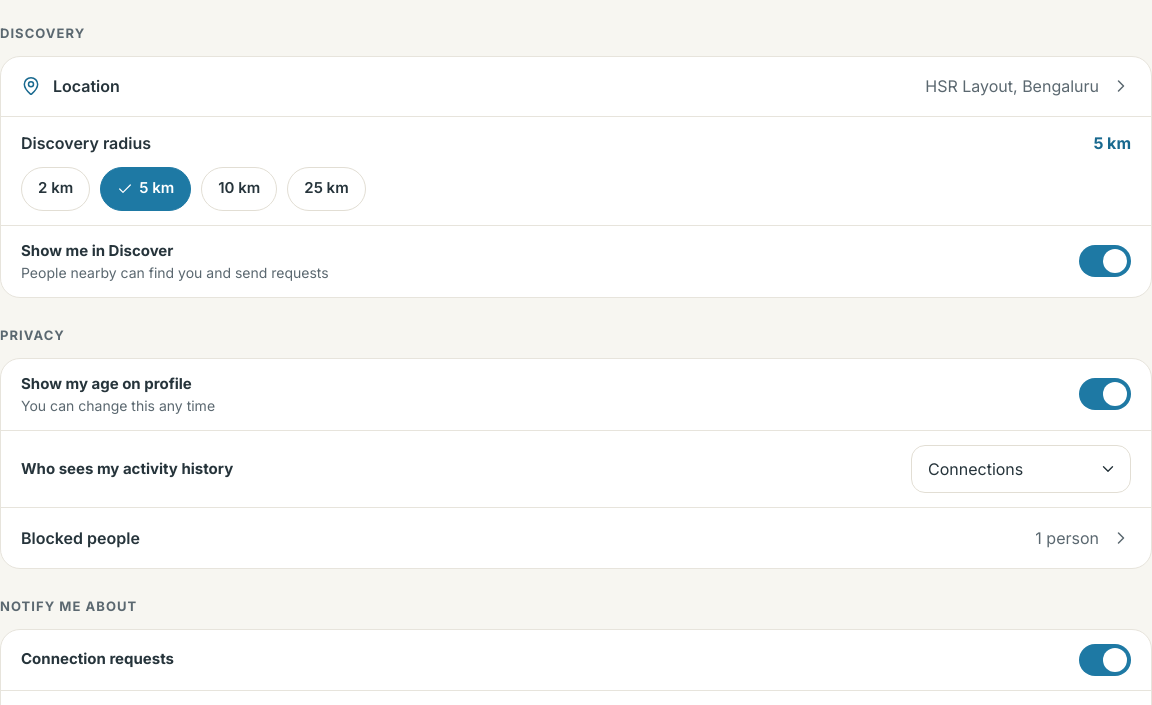
S22 settings form › blocked people: count, Unblock asks to confirm, then removes them
This screenshot has width=1152, height=705.
Click the button "Blocked people 1 person".
click(80, 538)  # box [1,508,1151,568]
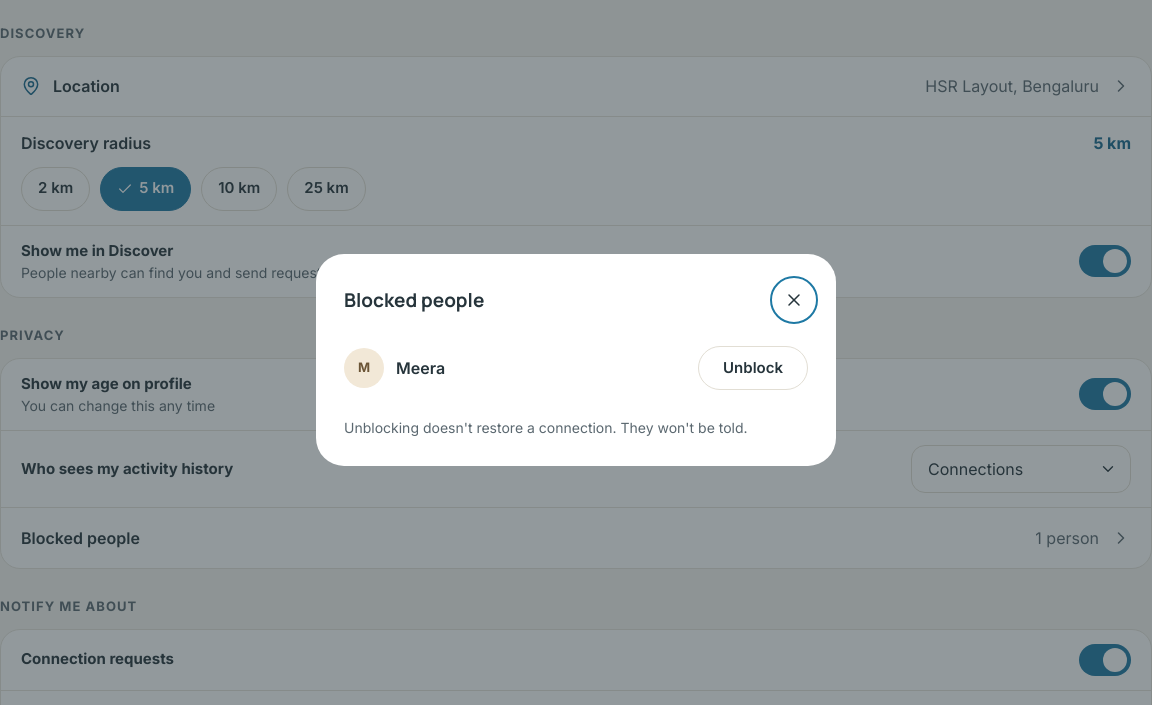
Click the button with aria-label "Unblock Meera".
click(753, 368)  # box [698,346,808,390]
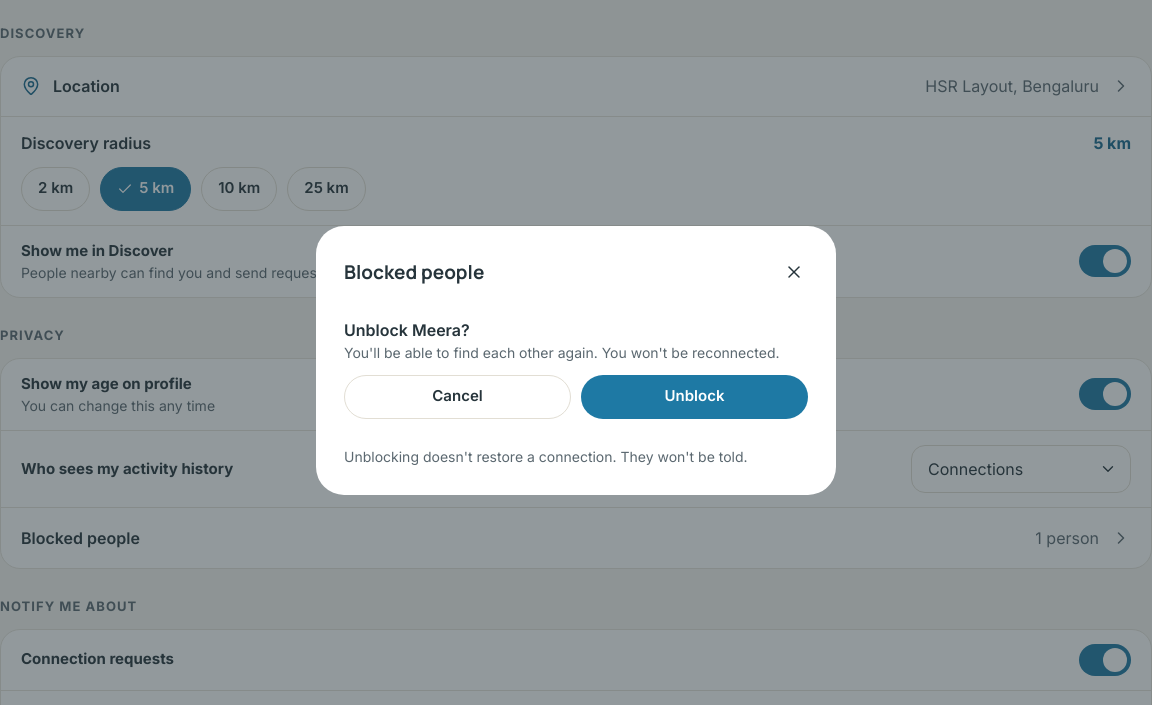
Click the button "Cancel".
click(458, 396)  # box [344,374,571,418]
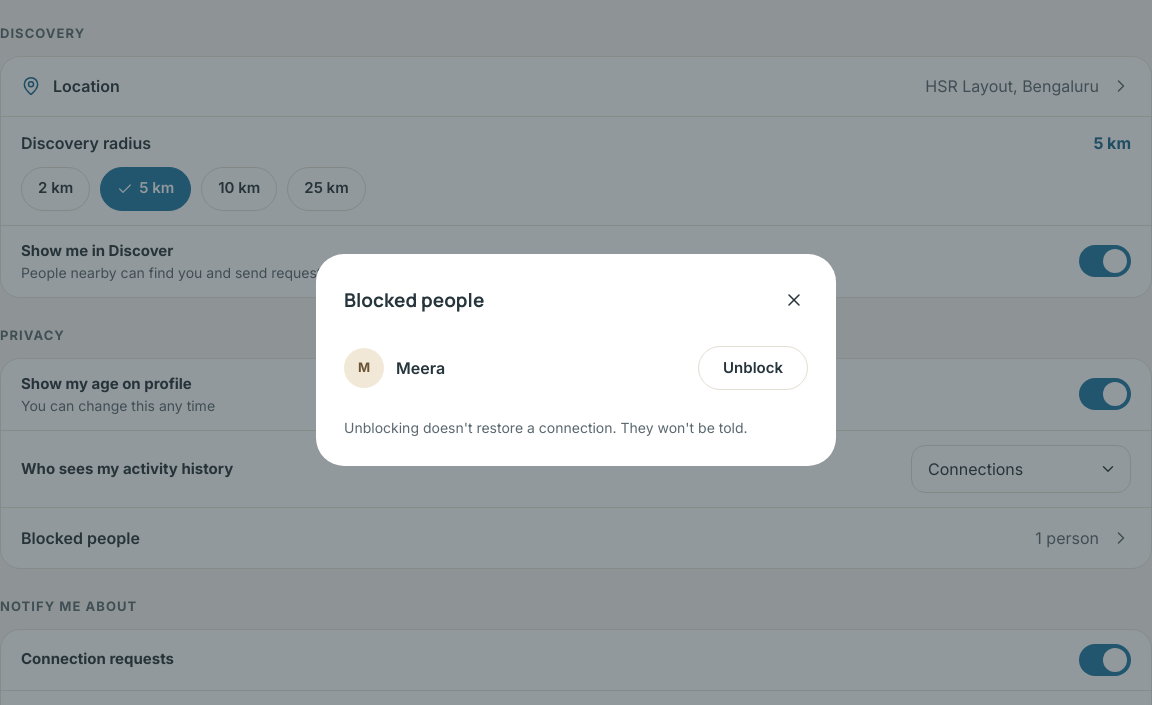
Click the button with aria-label "Unblock Meera".
click(753, 368)  # box [698,346,808,390]
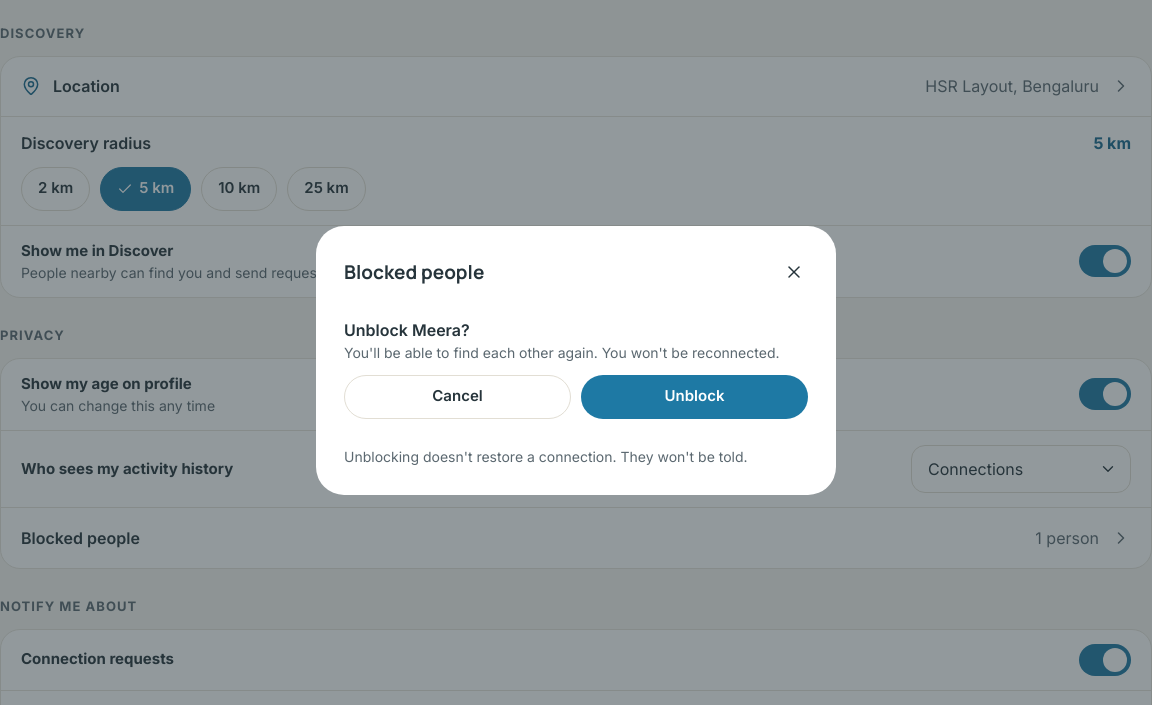
Click the button "Unblock".
click(694, 396)  # box [581,374,808,418]
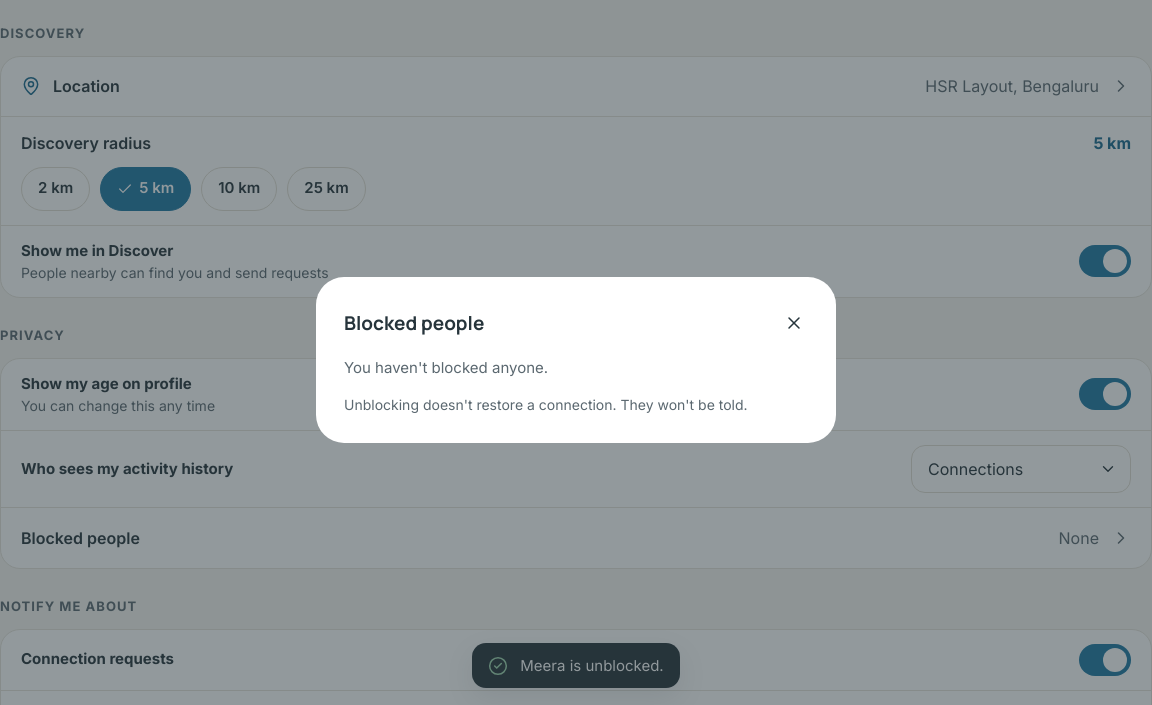
Expected: the text "Meera is unblocked." is shown, [520,655,664,676]
Expected: the text "You haven't blocked anyone." is shown, [344,358,548,377]
